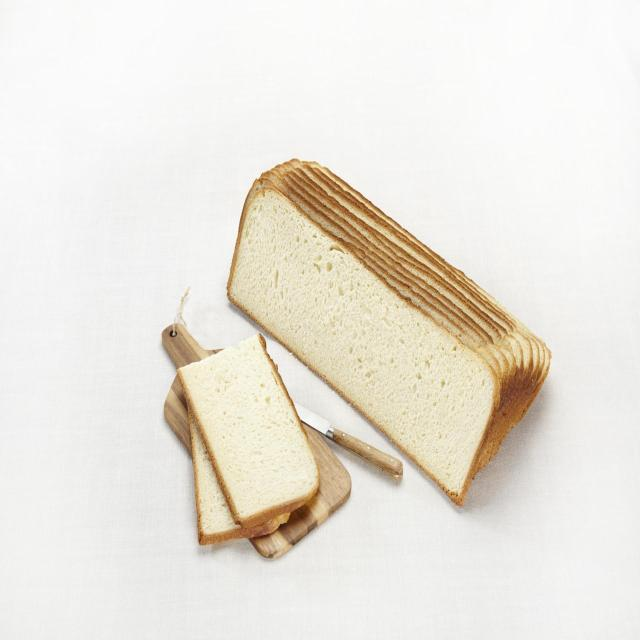Bread: (228, 159, 551, 504), (179, 336, 319, 546)
